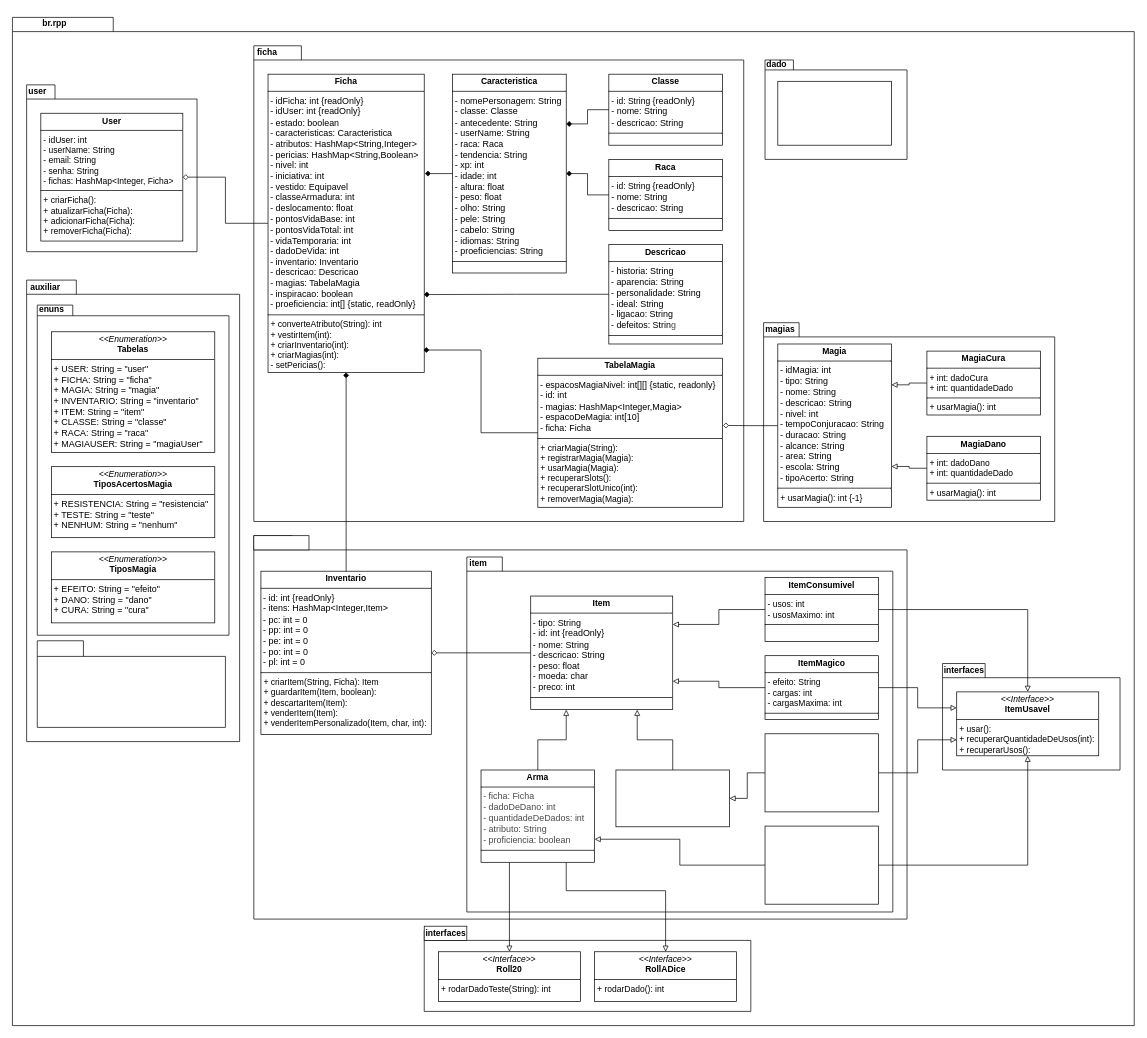
Image size: 1147x1038. Some labels were removed from this diagram. The shapes that lost their labels are listed below. From the top down, each one's centre as x and y in pixels, then its label:
the point at 834,113: Dado + rollD20(String): int + rollD(int): int + rollD(int, int): int
the point at 281,542: inventario
the point at 131,683: exeptions
the point at 821,772: EquipavelMagico - efeito: String - cargas: int - cargasMaxima: int - bonus: int
the point at 672,798: Equipavel - bonusCA: int - proficiencia: boolean
the point at 821,864: ArmaMagica - efeito: String - cargas: int - cargasMaxima: int - bonus: int
